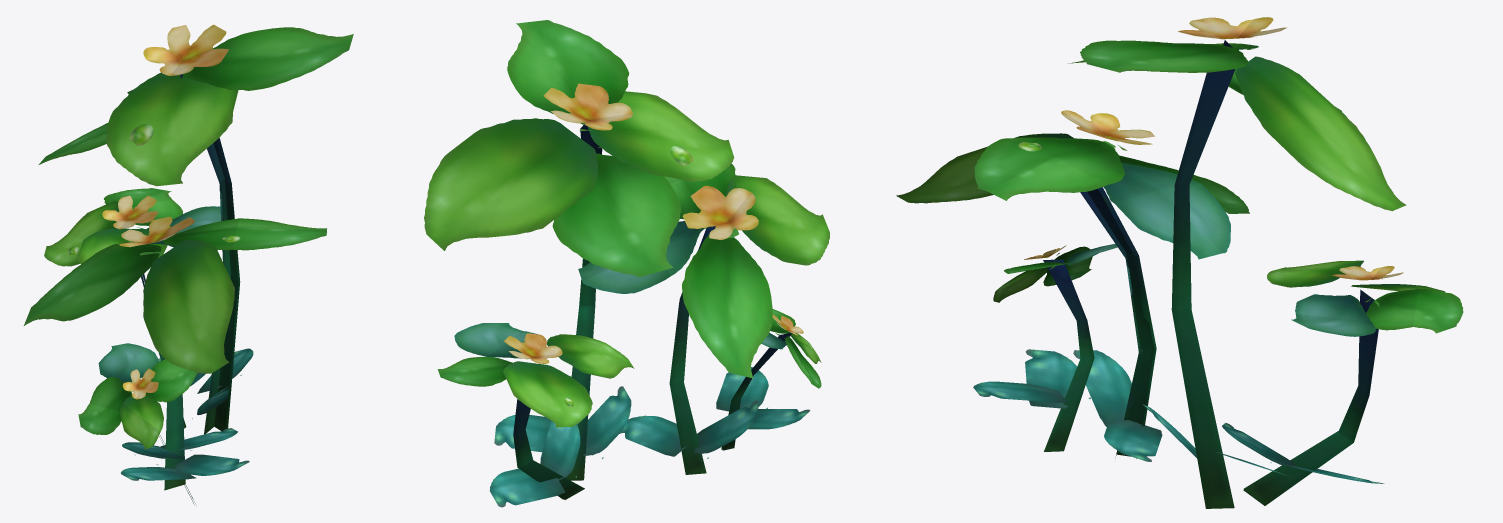
File: Yland1_Zb_21_Yland1.FBX
The picture shows the model from 3 angles, left to right: view 1: azimuth 30°, elevation 25°; view 2: azimuth 150°, elevation 25°; view 3: azimuth 270°, elevation 25°; orthographic projection. The views are drawn at different scales.
Visible parts, largest first — view 1: Yland1_Zb_21_Yland1; view 2: Yland1_Zb_21_Yland1; view 3: Yland1_Zb_21_Yland1.
Part boxes in pixels (x1=…): Yland1_Zb_21_Yland1: x1=24, y1=24, x2=353, y2=505; Yland1_Zb_21_Yland1: x1=424, y1=20, x2=829, y2=507; Yland1_Zb_21_Yland1: x1=896, y1=17, x2=1463, y2=508.
Bounding box in the file's own units: 0.9475 × 1.12 × 1.25.
